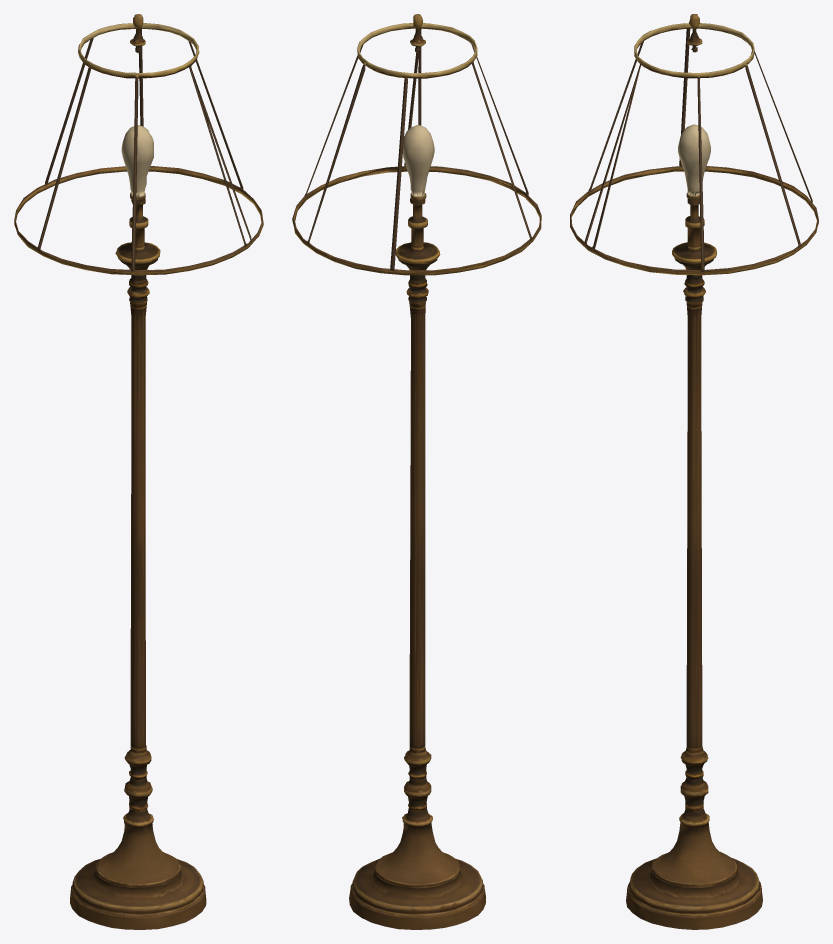
File: lighting-floor-lamp.glb
3 renders of one model, left to right at view 1: azimuth 30°, elevation 25°; view 2: azimuth 150°, elevation 25°; view 3: azimuth 270°, elevation 25°, orthographic.
Parts seen in each view (by area): view 1: tripo_node_2b5f716a-9754-48d9-8635-2f9ccf451003; view 2: tripo_node_2b5f716a-9754-48d9-8635-2f9ccf451003; view 3: tripo_node_2b5f716a-9754-48d9-8635-2f9ccf451003.
Part boxes in pixels (x1=…): tripo_node_2b5f716a-9754-48d9-8635-2f9ccf451003: x1=14, y1=14, x2=263, y2=929; tripo_node_2b5f716a-9754-48d9-8635-2f9ccf451003: x1=292, y1=14, x2=541, y2=929; tripo_node_2b5f716a-9754-48d9-8635-2f9ccf451003: x1=570, y1=14, x2=818, y2=929.
Bounding box in the file's own units: 0.42 × 1.65 × 0.42.
1 material, 1 textured.
